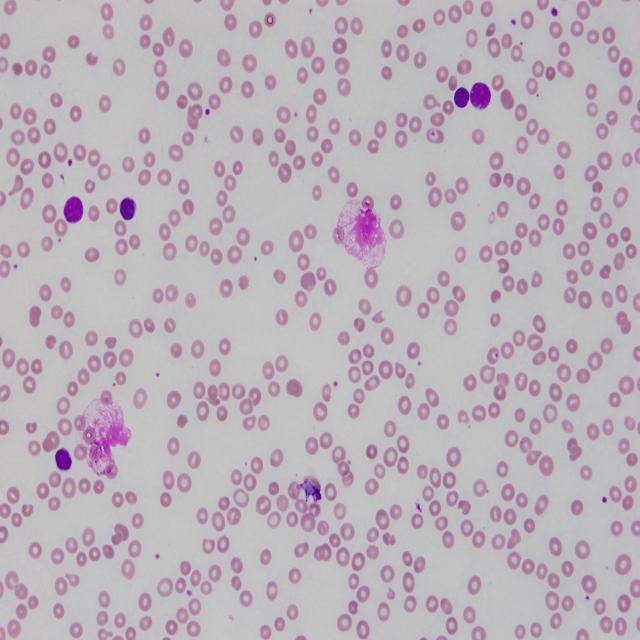cell: (470, 82, 491, 110), (64, 197, 84, 223), (120, 198, 136, 220), (55, 448, 71, 470), (454, 87, 470, 108)
